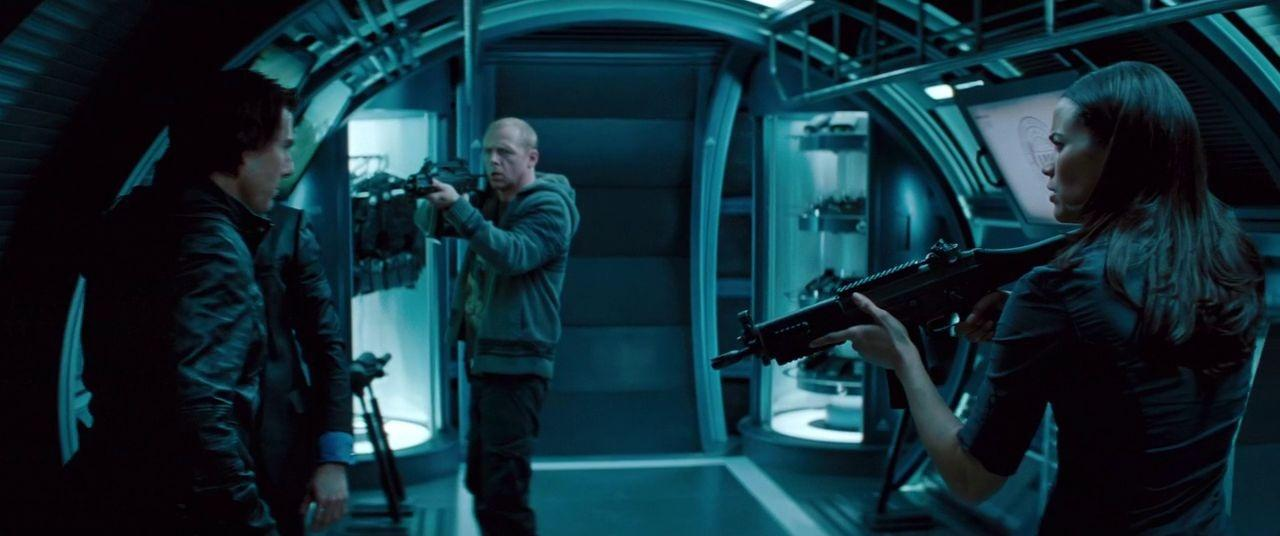gun: (709, 201, 1097, 413), (397, 139, 479, 208)
